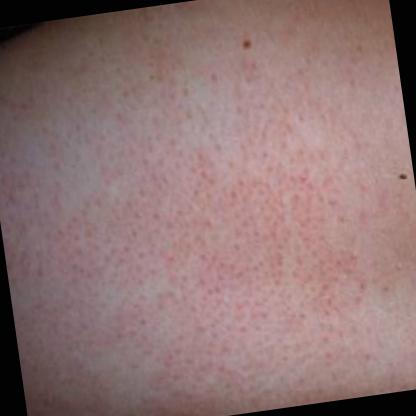Chicken Skin: (6, 56, 376, 391)
